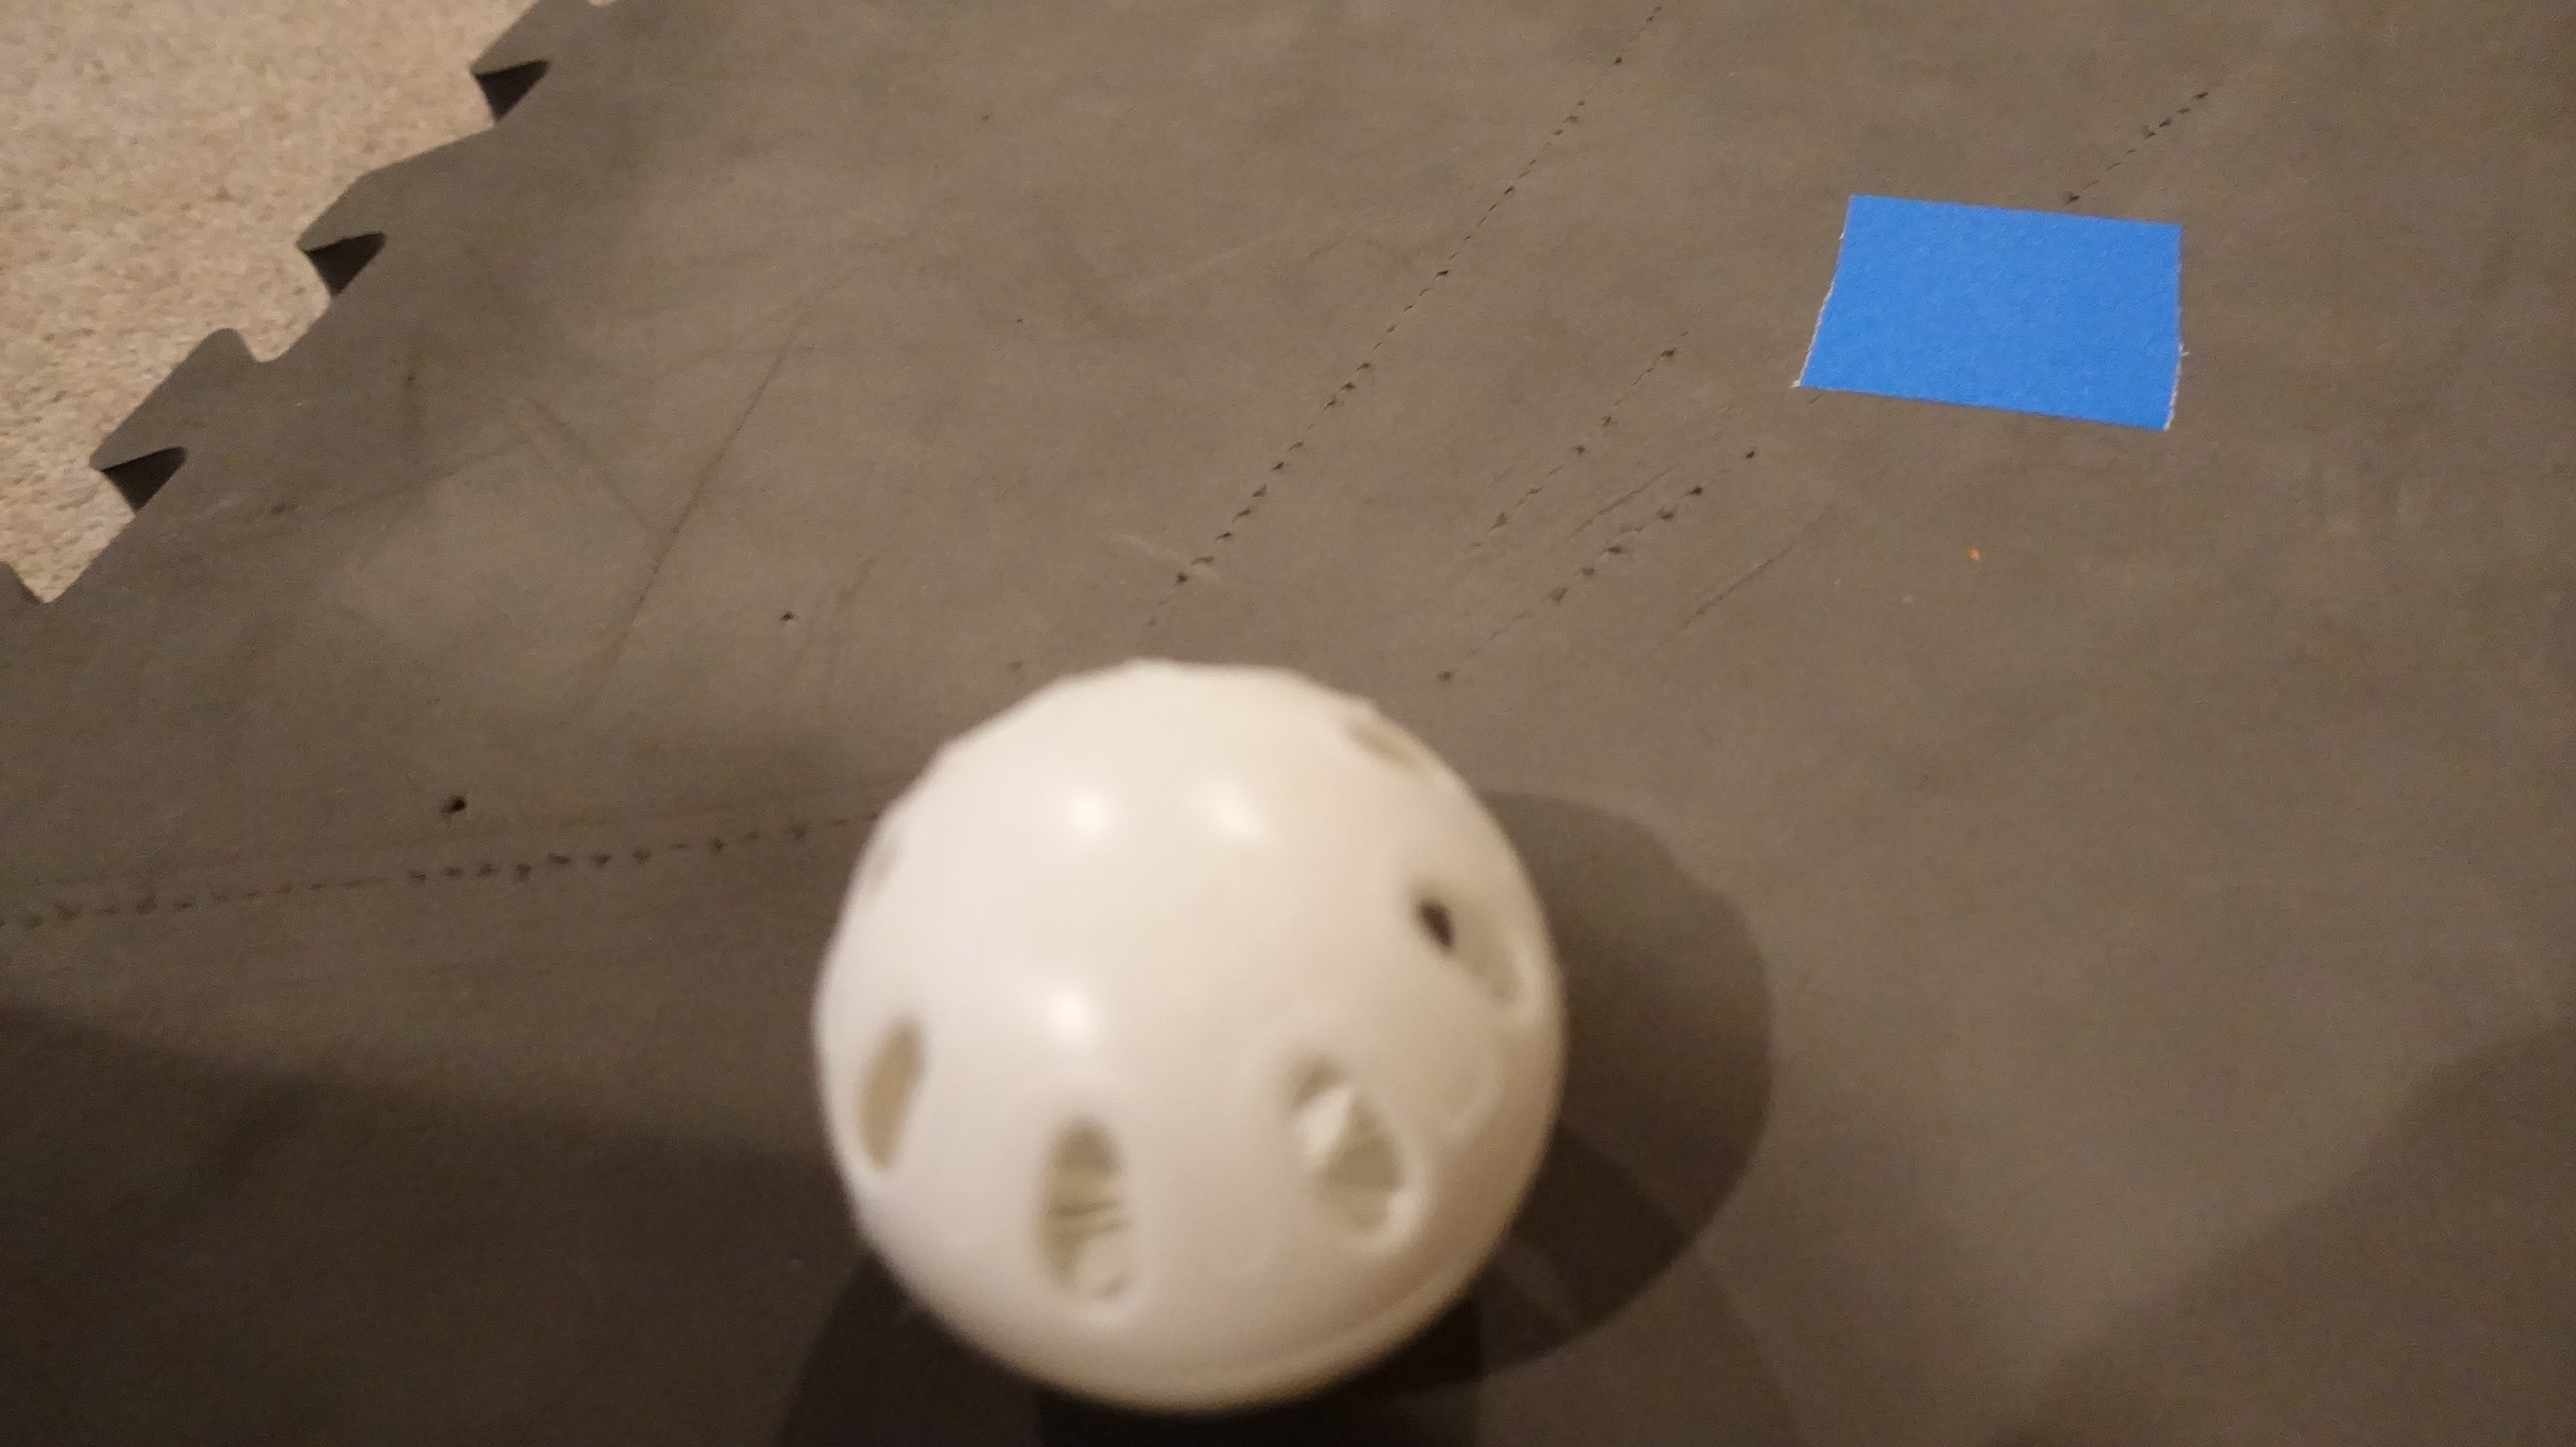silver: (798, 647, 1596, 1428)
